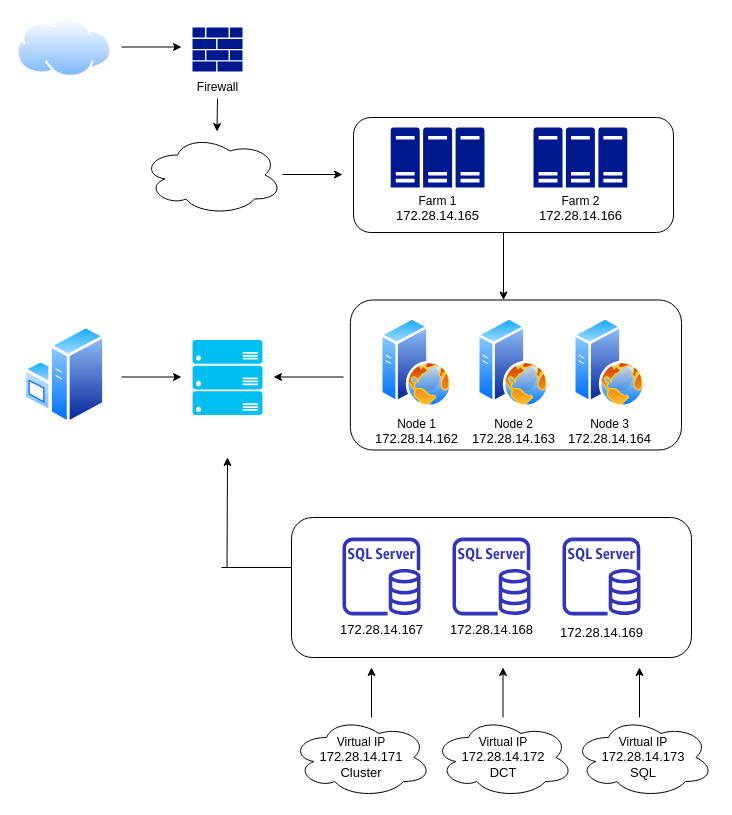
The diagram is 732 pixels wide and 815 high, and some of its shapes have lost their labels. Here are the shapes that lost their labels. From the top down, the box of each, then its label:
(16, 17, 112, 77): Internet
(142, 134, 282, 215): Virtual IP 172.28.14.170
(23, 324, 105, 424): AD Server 172.28.14.160
(192, 340, 262, 414): Storage 172.28.14.161
